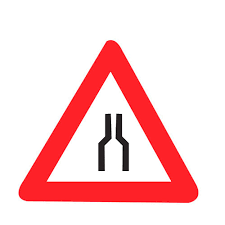Narrow_road: (18, 37, 202, 206)
